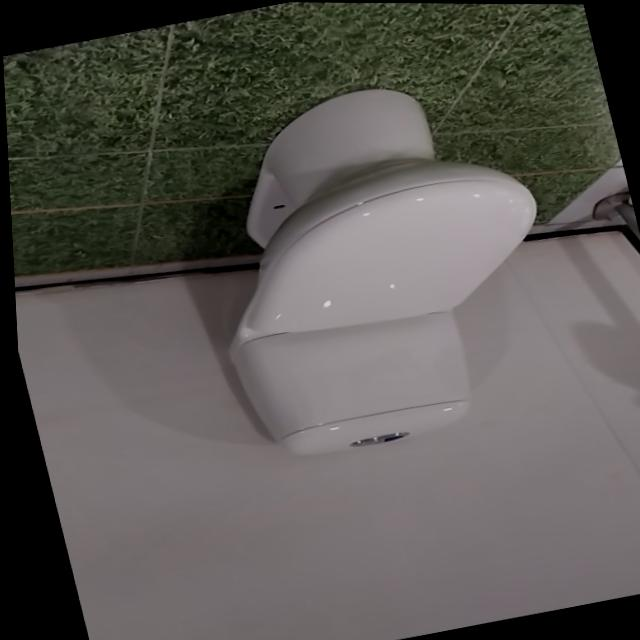toilet: (167, 60, 586, 471)
